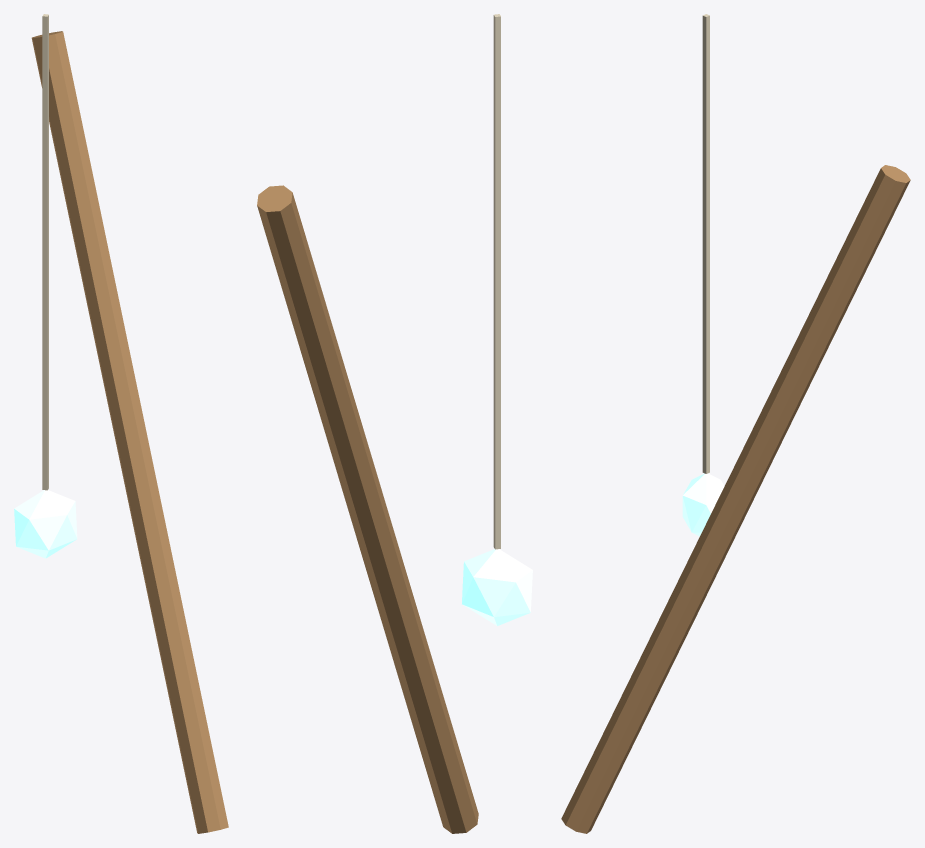
Rendered from fishingRod.glb.
3 renders of one model, left to right at view 1: azimuth 30°, elevation 25°; view 2: azimuth 150°, elevation 25°; view 3: azimuth 270°, elevation 25°, orthographic. The views are drawn at different scales.
Visible parts, largest first — view 1: Rod, Float, RodLine; view 2: Rod, RodLine, Float; view 3: Rod, RodLine, Float.
Part boxes in pixels (x1=…): Rod: x1=31, y1=31, x2=228, y2=833; Float: x1=14, y1=490, x2=77, y2=558; RodLine: x1=42, y1=14, x2=48, y2=490; Rod: x1=257, y1=185, x2=478, y2=833; RodLine: x1=493, y1=14, x2=500, y2=549; Float: x1=462, y1=549, x2=532, y2=625; Rod: x1=561, y1=165, x2=910, y2=833; RodLine: x1=702, y1=14, x2=709, y2=473; Float: x1=682, y1=473, x2=724, y2=536.
Size of the model in its own units: 0.2167 by 1.14 by 0.4713.
